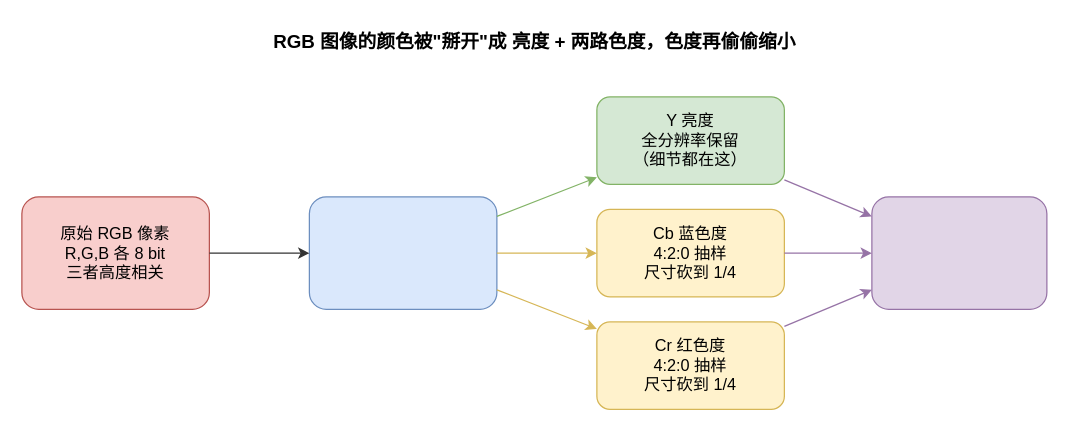
This 1069x431 diagram has some shape labels left out. Here are the shapes that lost their labels. From the top down, the centre of each, then its label:
At [402,252]: "RGB → YCbCr （BT.601 系数） 线性组合，无损".
At [959,252]: "送入 DCT / 量化 （后续文章） 数据量已先省一半".
